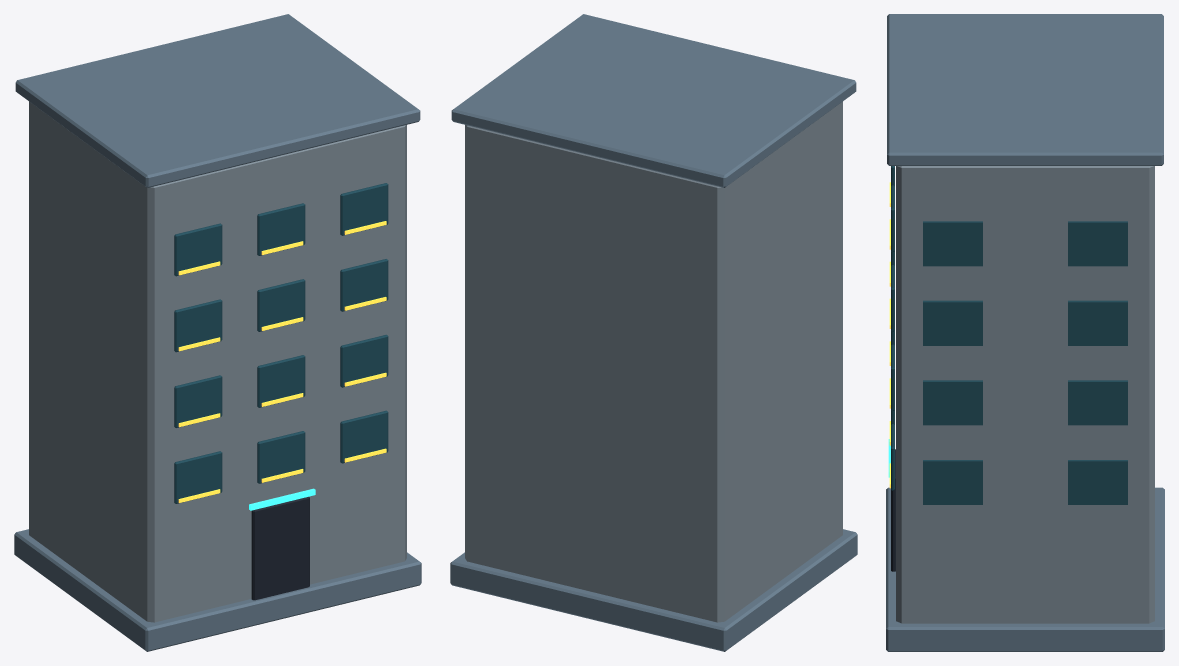
Rendered from SM_ENV_Building_001_Residential.glb.
3 views of the same model, side by side, from view 1: azimuth 30°, elevation 25°; view 2: azimuth 150°, elevation 25°; view 3: azimuth 270°, elevation 25° (orthographic). The views are drawn at different scales.
Visible parts, largest first — view 1: SM_ENV_Building_001_Residential; view 2: SM_ENV_Building_001_Residential; view 3: SM_ENV_Building_001_Residential.
Boxes of the visible parts, left/top/right/bottom form: SM_ENV_Building_001_Residential: left=14, top=14, right=421, bottom=651; SM_ENV_Building_001_Residential: left=450, top=14, right=857, bottom=651; SM_ENV_Building_001_Residential: left=886, top=14, right=1164, bottom=651.
Size of the model in its own units: 3.62 by 5.96 by 3.02.
